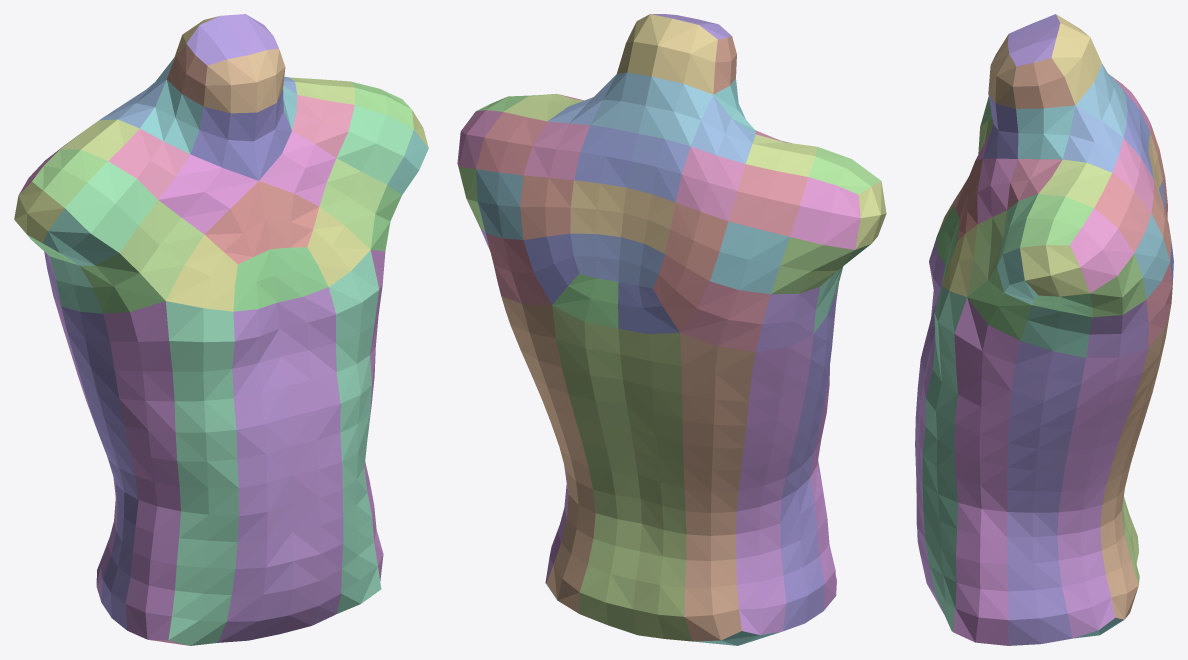
Rendered from mannequin_patch_color.obj.
3 renders of one model, left to right at view 1: azimuth 30°, elevation 25°; view 2: azimuth 150°, elevation 25°; view 3: azimuth 270°, elevation 25°, orthographic. The views are drawn at different scales.
Size of the model in its own units: 5.43 by 7.55 by 3.09.
